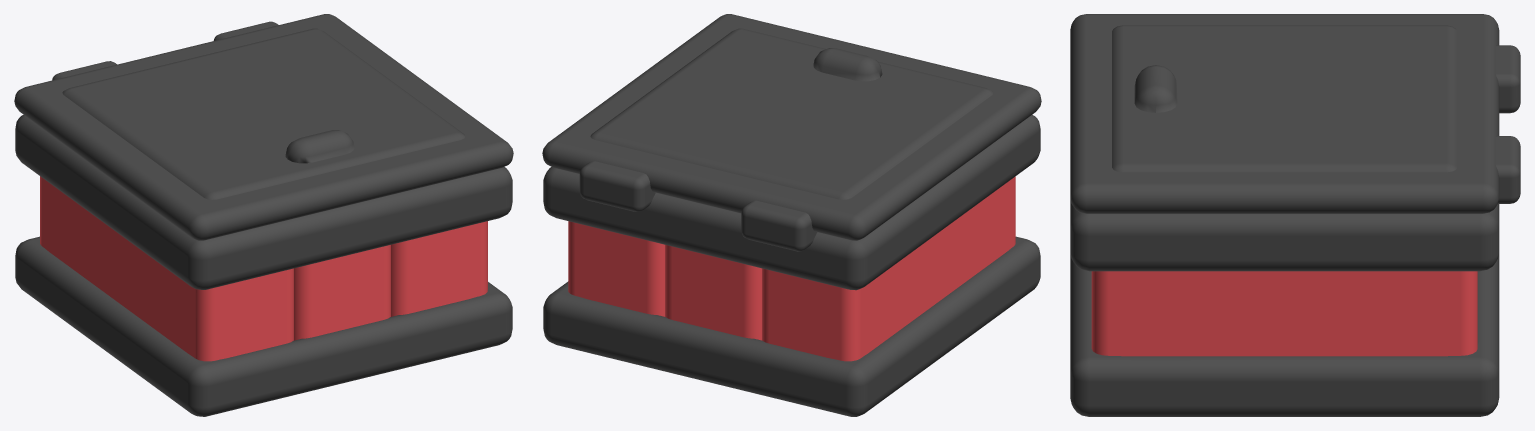
The model's file is ContainerStation.fbx.
The picture shows the model from 3 angles, left to right: view 1: azimuth 30°, elevation 25°; view 2: azimuth 150°, elevation 25°; view 3: azimuth 270°, elevation 25°; orthographic projection. The views are drawn at different scales.
Parts seen in each view (by area): view 1: ContainerStation, ContainerLid; view 2: ContainerStation, ContainerLid; view 3: ContainerStation, ContainerLid.
Boxes of the visible parts, box(x1,y1,x2,y2) form: ContainerStation: box(15, 21, 512, 416); ContainerLid: box(14, 14, 513, 240); ContainerStation: box(543, 115, 1040, 416); ContainerLid: box(542, 14, 1041, 240); ContainerStation: box(1070, 45, 1520, 416); ContainerLid: box(1070, 14, 1499, 213).
Size of the model in its own units: 200 by 132 by 210.
